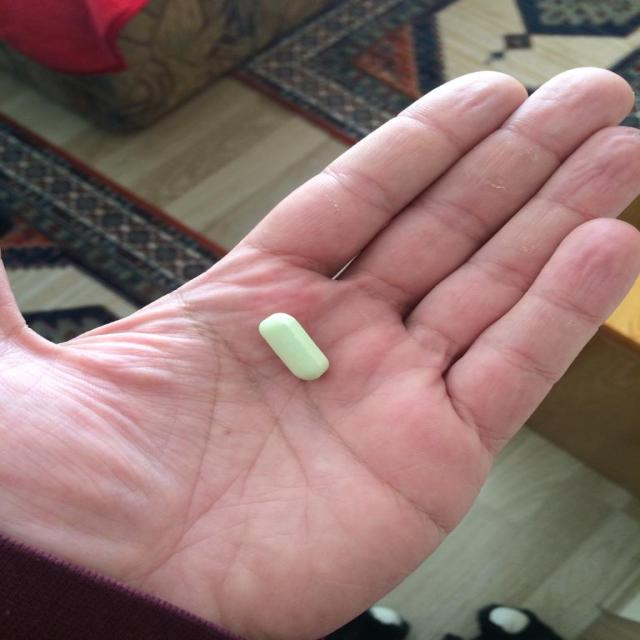pills: (254, 307, 338, 389)
